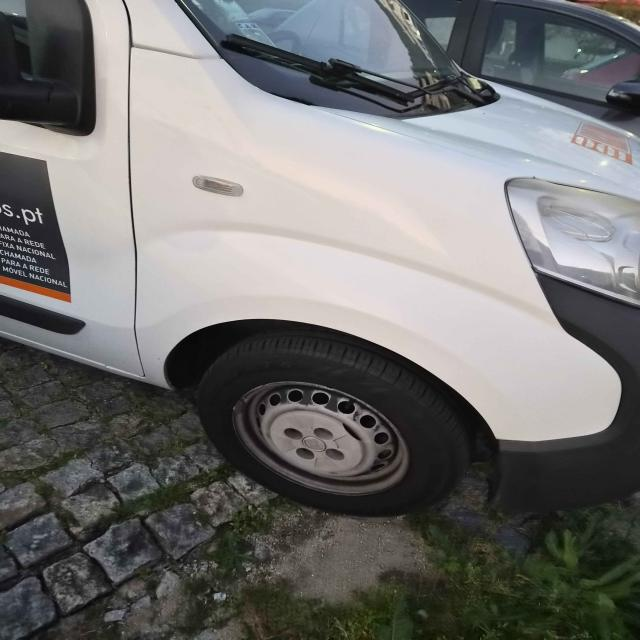jante: (233, 381, 410, 496)
parafuso: (280, 425, 305, 442), (313, 428, 336, 442), (297, 448, 316, 462), (324, 449, 346, 461)
roda: (194, 323, 476, 519)
